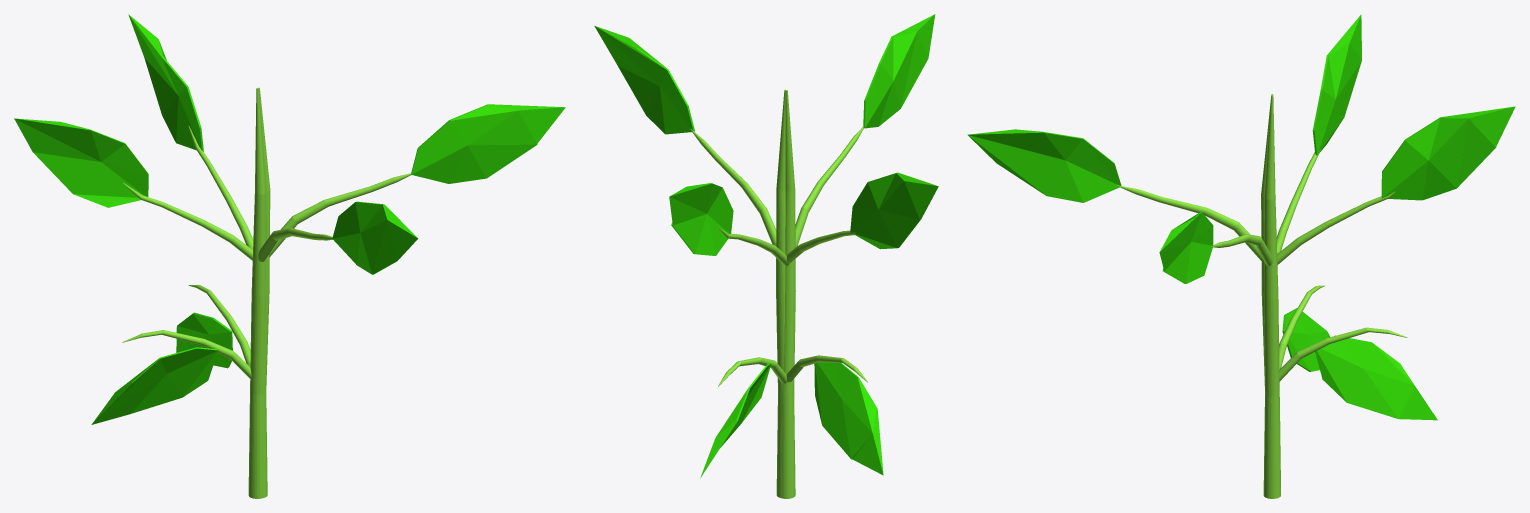
Rendered from small_plant_Cube.032.dae.
3 views of the same model, side by side, from view 1: azimuth 30°, elevation 25°; view 2: azimuth 150°, elevation 25°; view 3: azimuth 270°, elevation 25° (orthographic).
Parts seen in each view (by area): view 1: Cube.032; view 2: Cube.032; view 3: Cube.032.
Part boxes in pixels (box(x1,y1,x2,y2)): Cube.032: box(14, 14, 565, 498); Cube.032: box(594, 14, 938, 498); Cube.032: box(967, 14, 1515, 498).
Size of the model in its own units: 0.1977 by 0.2126 by 0.1711.
